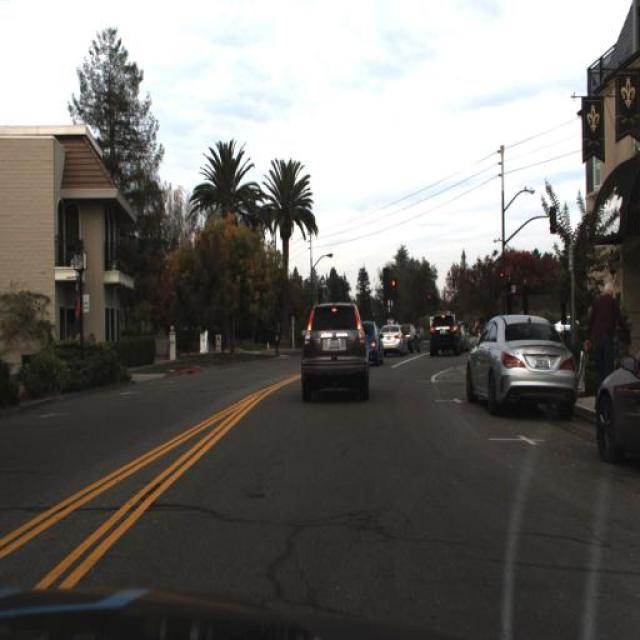car: (462, 310, 577, 406), (300, 301, 370, 394), (592, 343, 640, 472), (428, 310, 463, 358), (382, 322, 411, 358), (362, 318, 383, 362), (403, 320, 423, 352)
trafficLight: (582, 280, 630, 402)
